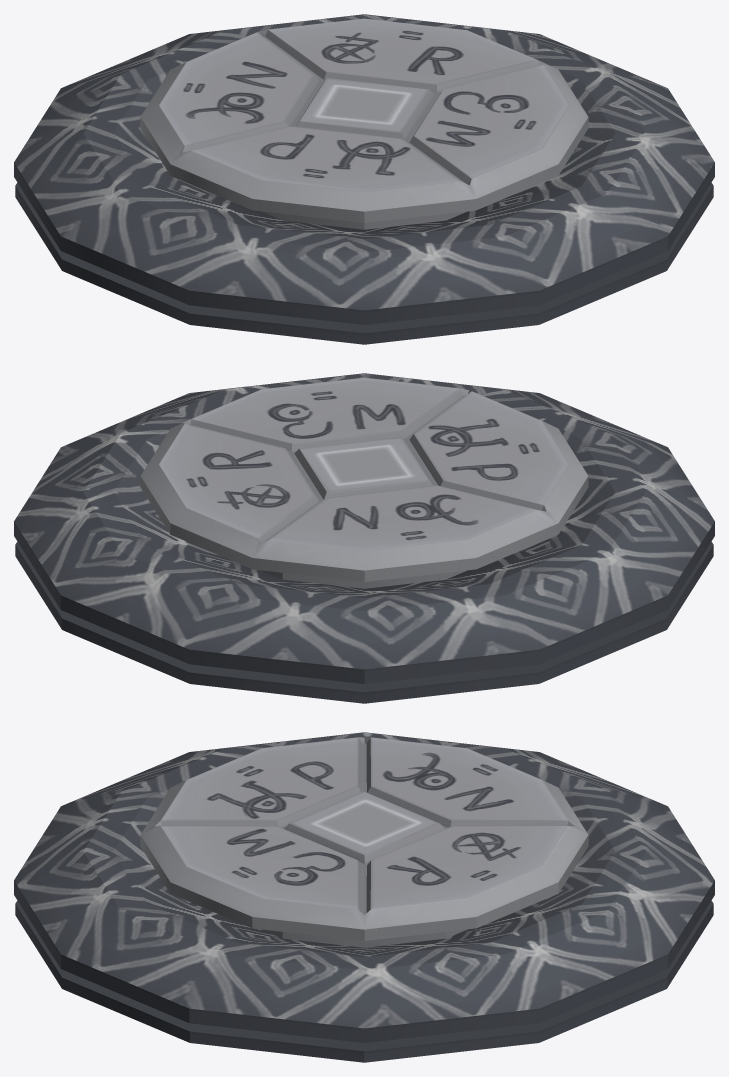
File: foottool_nrpm.FBX
3 renders of one model, top to bottom at view 1: azimuth 30°, elevation 25°; view 2: azimuth 150°, elevation 25°; view 3: azimuth 270°, elevation 25°, orthographic.
Parts seen in each view (by area): view 1: Cylinder001, Object002; view 2: Cylinder001, Object002; view 3: Cylinder001, Object002.
Boxes of the visible parts, box(x1,y1,x2,y2) form: Cylinder001: box(14, 14, 714, 344); Object002: box(140, 18, 588, 229); Cylinder001: box(14, 373, 714, 703); Object002: box(140, 377, 588, 588); Cylinder001: box(14, 732, 714, 1062); Object002: box(140, 737, 588, 947).
Bounding box in the file's own units: 37.95 × 5.48 × 37.95.
